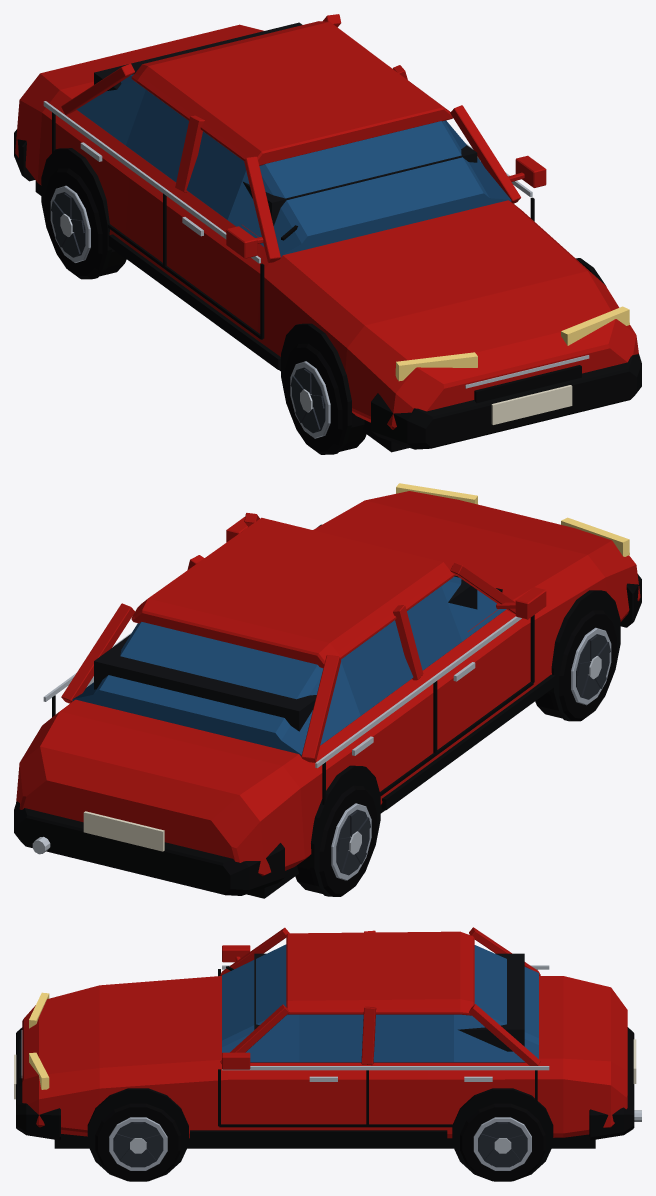
The model's file is WL_Vehicle_Sedan_A.obj.
3 renders of one model, top to bottom at view 1: azimuth 30°, elevation 25°; view 2: azimuth 150°, elevation 25°; view 3: azimuth 270°, elevation 25°, orthographic. The views are drawn at different scales.
Parts seen in each view (by area): view 1: WL_Vehicle_Sedan_A_Body, WL_Vehicle_Sedan_A_Greenhouse_Glass, WL_Vehicle_Sedan_A_Roof, WL_Vehicle_Sedan_A_Bumper_Front, WL_Vehicle_Sedan_A_Pillars, WL_Vehicle_Sedan_A_Wheel_Arches, WL_Vehicle_Sedan_A_Wheel_F_R, WL_Vehicle_Sedan_A_Wheel_R_R, WL_Vehicle_Sedan_A_Side_Skirts, WL_Vehicle_Sedan_A_Headlights, WL_Vehicle_Sedan_A_Interior, WL_Vehicle_Sedan_A_Plates (+8 smaller); view 2: WL_Vehicle_Sedan_A_Body, WL_Vehicle_Sedan_A_Roof, WL_Vehicle_Sedan_A_Greenhouse_Glass, WL_Vehicle_Sedan_A_Bumper_Rear, WL_Vehicle_Sedan_A_Interior, WL_Vehicle_Sedan_A_Pillars, WL_Vehicle_Sedan_A_Wheel_Arches, WL_Vehicle_Sedan_A_Wheel_R_R, WL_Vehicle_Sedan_A_Wheel_F_R, WL_Vehicle_Sedan_A_Side_Skirts, WL_Vehicle_Sedan_A_Plates, WL_Vehicle_Sedan_A_Door_Lines (+8 smaller); view 3: WL_Vehicle_Sedan_A_Body, WL_Vehicle_Sedan_A_Greenhouse_Glass, WL_Vehicle_Sedan_A_Roof, WL_Vehicle_Sedan_A_Wheel_Arches, WL_Vehicle_Sedan_A_Pillars, WL_Vehicle_Sedan_A_Underbody, WL_Vehicle_Sedan_A_Wheel_F_L, WL_Vehicle_Sedan_A_Wheel_R_L, WL_Vehicle_Sedan_A_Side_Skirts, WL_Vehicle_Sedan_A_Interior, WL_Vehicle_Sedan_A_Bumper_Rear, WL_Vehicle_Sedan_A_Beltline_Trim (+8 smaller).
Part boxes in pixels (x1,y1,x2,y2): WL_Vehicle_Sedan_A_Body: (15, 24, 638, 429); WL_Vehicle_Sedan_A_Greenhouse_Glass: (76, 74, 511, 256); WL_Vehicle_Sedan_A_Roof: (131, 21, 452, 165); WL_Vehicle_Sedan_A_Bumper_Front: (371, 354, 641, 449); WL_Vehicle_Sedan_A_Pillars: (61, 14, 520, 262); WL_Vehicle_Sedan_A_Wheel_Arches: (41, 148, 606, 454); WL_Vehicle_Sedan_A_Wheel_F_R: (285, 343, 366, 454); WL_Vehicle_Sedan_A_Wheel_R_R: (45, 168, 126, 278); WL_Vehicle_Sedan_A_Side_Skirts: (108, 234, 280, 369); WL_Vehicle_Sedan_A_Headlights: (395, 306, 629, 381); WL_Vehicle_Sedan_A_Interior: (94, 22, 477, 225); WL_Vehicle_Sedan_A_Plates: (491, 385, 572, 424); WL_Vehicle_Sedan_A_Body: (16, 491, 640, 876); WL_Vehicle_Sedan_A_Roof: (131, 517, 454, 668); WL_Vehicle_Sedan_A_Greenhouse_Glass: (72, 576, 506, 756); WL_Vehicle_Sedan_A_Bumper_Rear: (14, 801, 284, 895); WL_Vehicle_Sedan_A_Interior: (94, 575, 477, 731); WL_Vehicle_Sedan_A_Pillars: (61, 513, 515, 762); WL_Vehicle_Sedan_A_Wheel_Arches: (310, 524, 620, 896); WL_Vehicle_Sedan_A_Wheel_R_R: (295, 785, 376, 896); WL_Vehicle_Sedan_A_Wheel_F_R: (535, 610, 616, 720); WL_Vehicle_Sedan_A_Side_Skirts: (381, 674, 555, 810); WL_Vehicle_Sedan_A_Plates: (83, 811, 164, 851); WL_Vehicle_Sedan_A_Door_Lines: (52, 615, 534, 804); WL_Vehicle_Sedan_A_Body: (22, 976, 627, 1138); WL_Vehicle_Sedan_A_Greenhouse_Glass: (222, 944, 538, 1062); WL_Vehicle_Sedan_A_Roof: (286, 931, 474, 1015); WL_Vehicle_Sedan_A_Wheel_Arches: (87, 1088, 553, 1181); WL_Vehicle_Sedan_A_Pillars: (220, 927, 540, 1065); WL_Vehicle_Sedan_A_Underbody: (54, 1134, 595, 1148); WL_Vehicle_Sedan_A_Wheel_F_L: (95, 1103, 181, 1181); WL_Vehicle_Sedan_A_Wheel_R_L: (460, 1103, 545, 1181); WL_Vehicle_Sedan_A_Side_Skirts: (190, 1130, 447, 1139); WL_Vehicle_Sedan_A_Interior: (254, 953, 524, 1051); WL_Vehicle_Sedan_A_Bumper_Rear: (589, 1027, 634, 1140); WL_Vehicle_Sedan_A_Beltline_Trim: (222, 965, 549, 1070).
Bounding box in the file's own units: 2.06 × 1.42 × 4.88.
